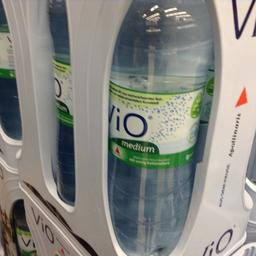water: (108, 0, 214, 255)
